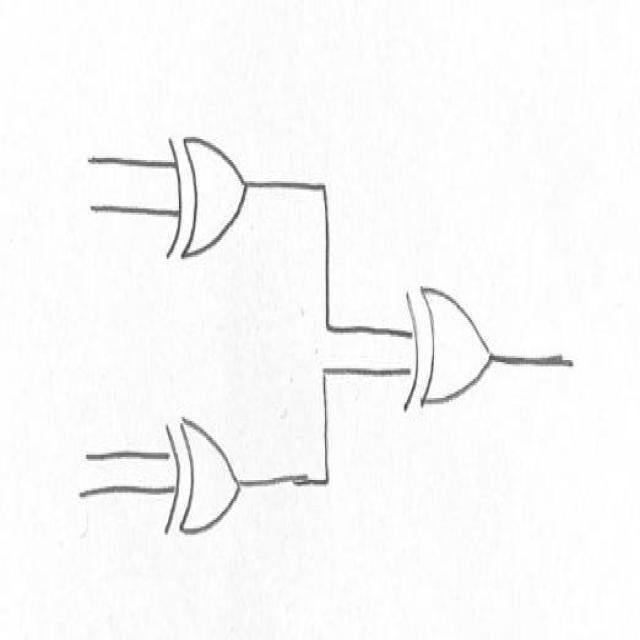XOR: (396, 254, 496, 433), (158, 111, 260, 286), (155, 399, 252, 545)
